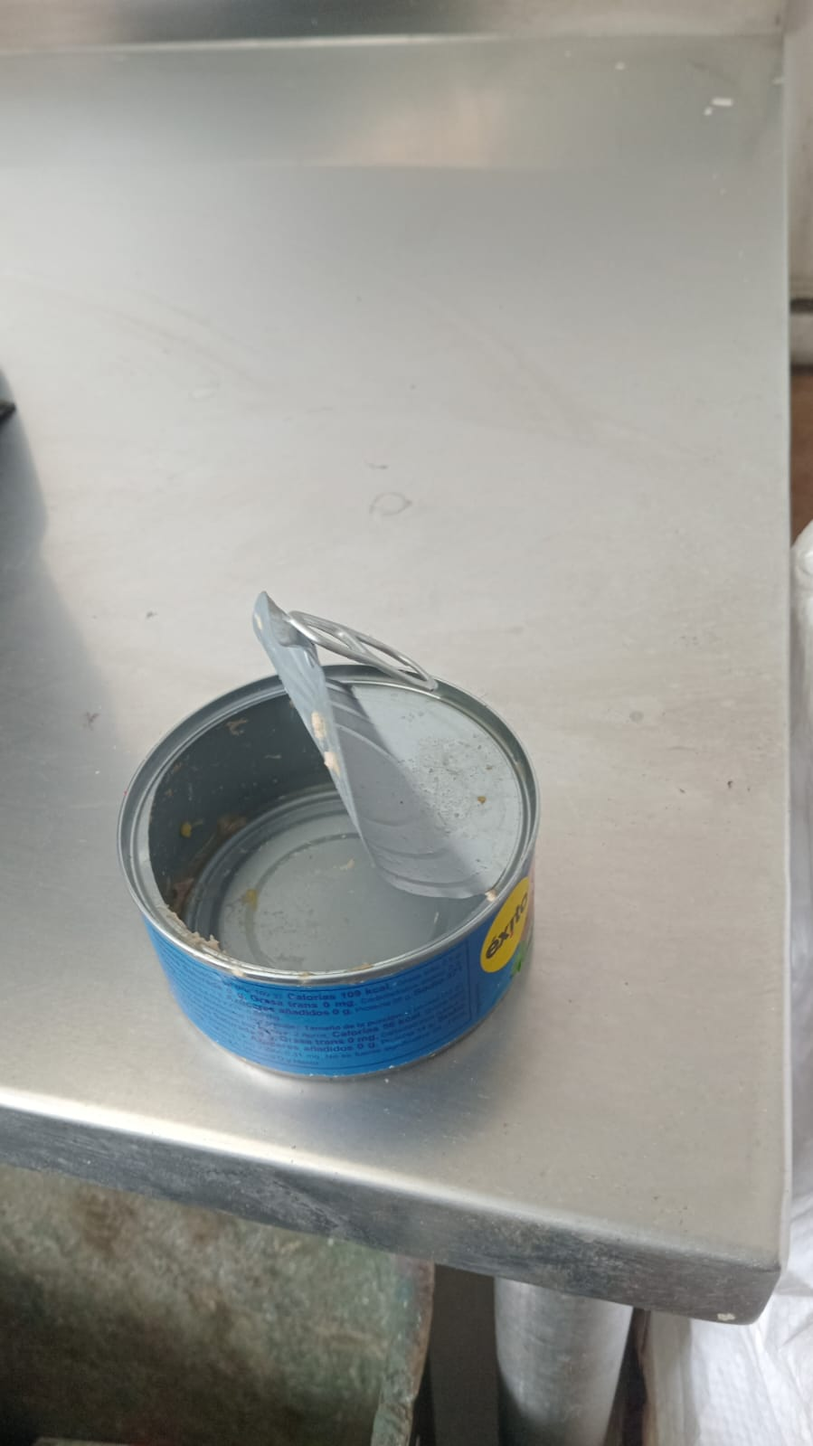Metal: (119, 593, 534, 1081)
